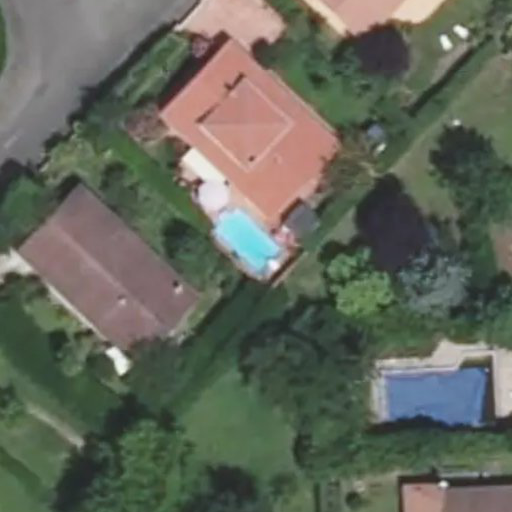pool: (221, 231, 290, 252)
